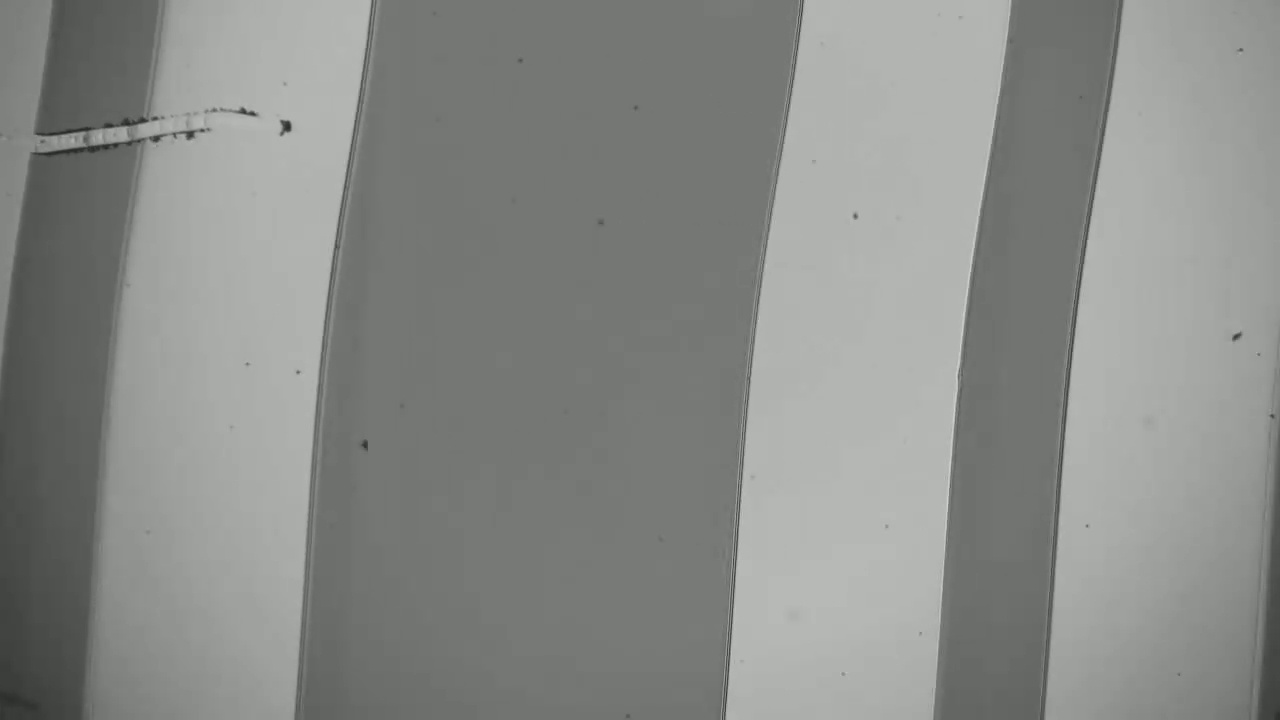Short_circuit: (13, 86, 182, 179)
